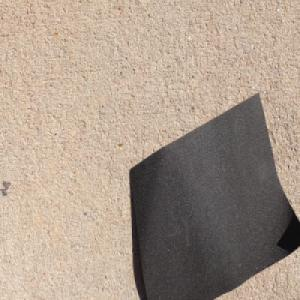PaintChip: (127, 90, 296, 300)
